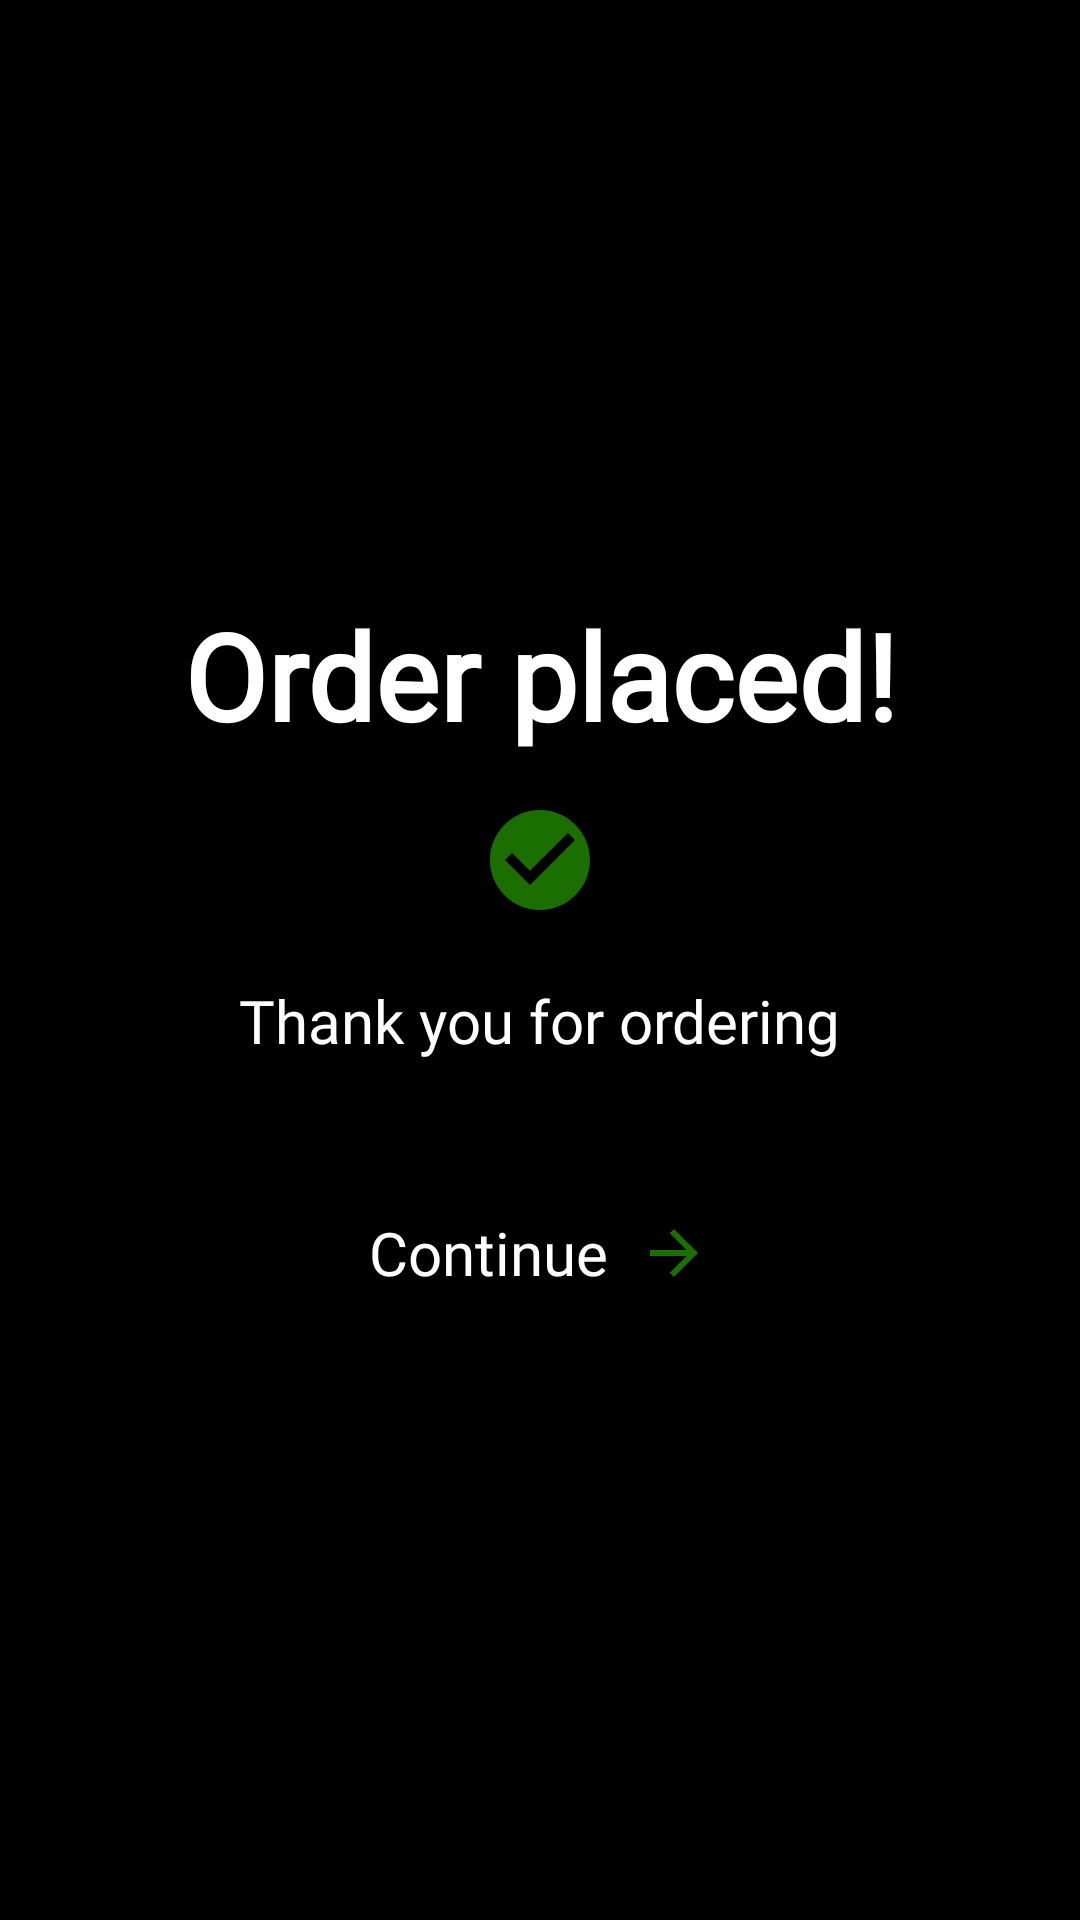

Screen size 1080x1920. Icon name, then its center in pixels as (x=x, y=y):
check circle: (x=540, y=860)
